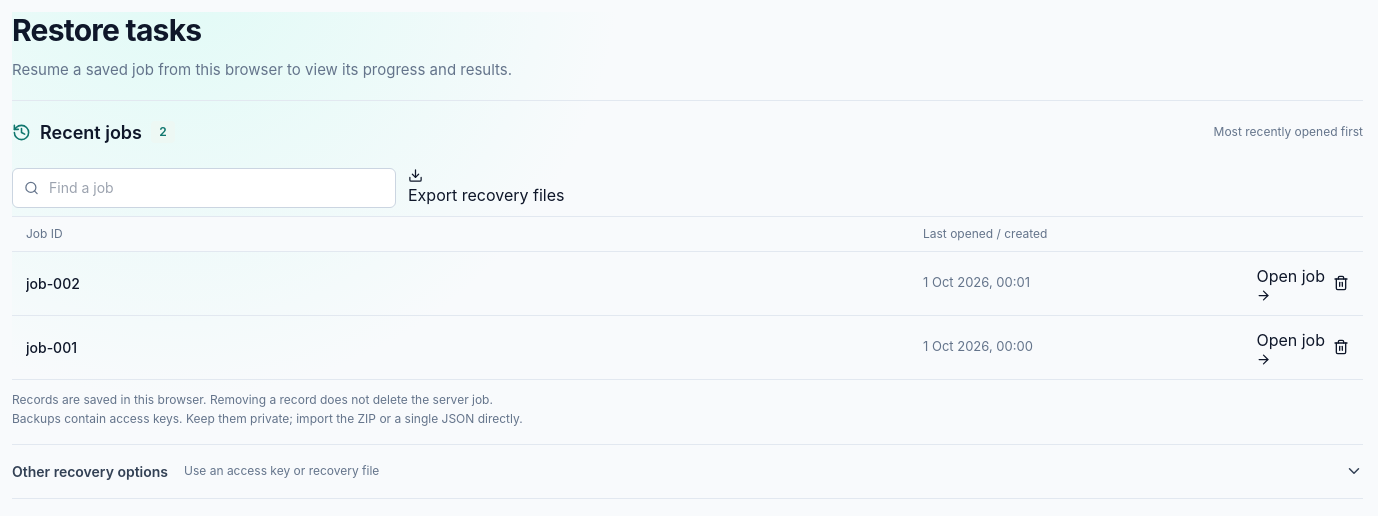
saved task recovery › undo restores the exact credential and work entry while preserving other work
Click the button named "Remove record: job-001" at (1341, 347), box [1333,327,1349,367]
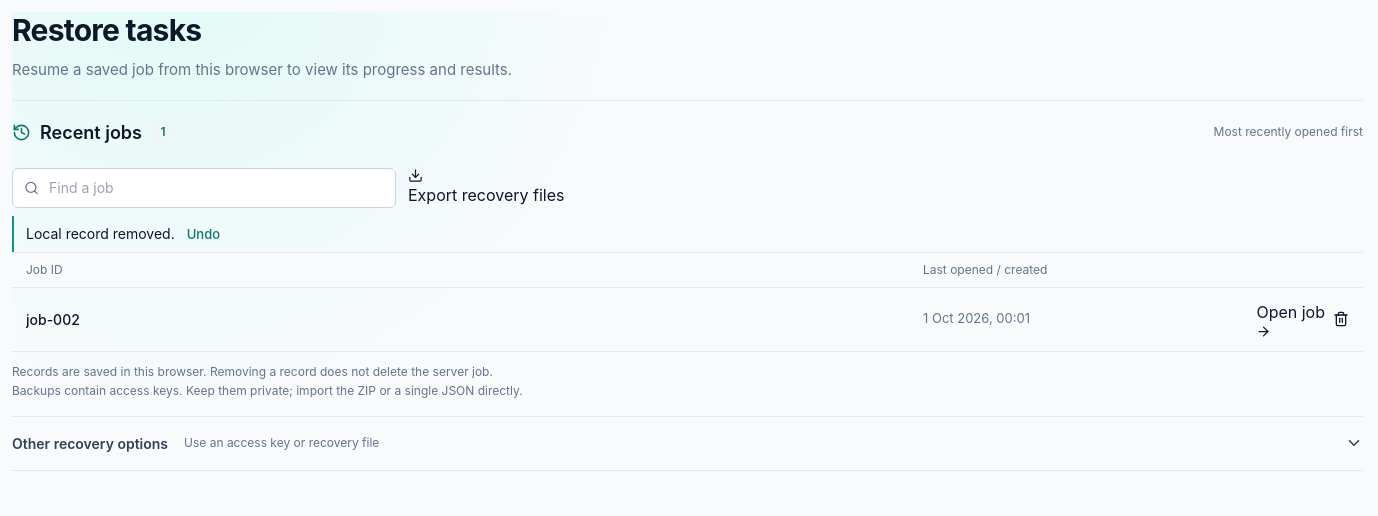
Click the button "Undo" at (203, 234), box [187,224,220,244]
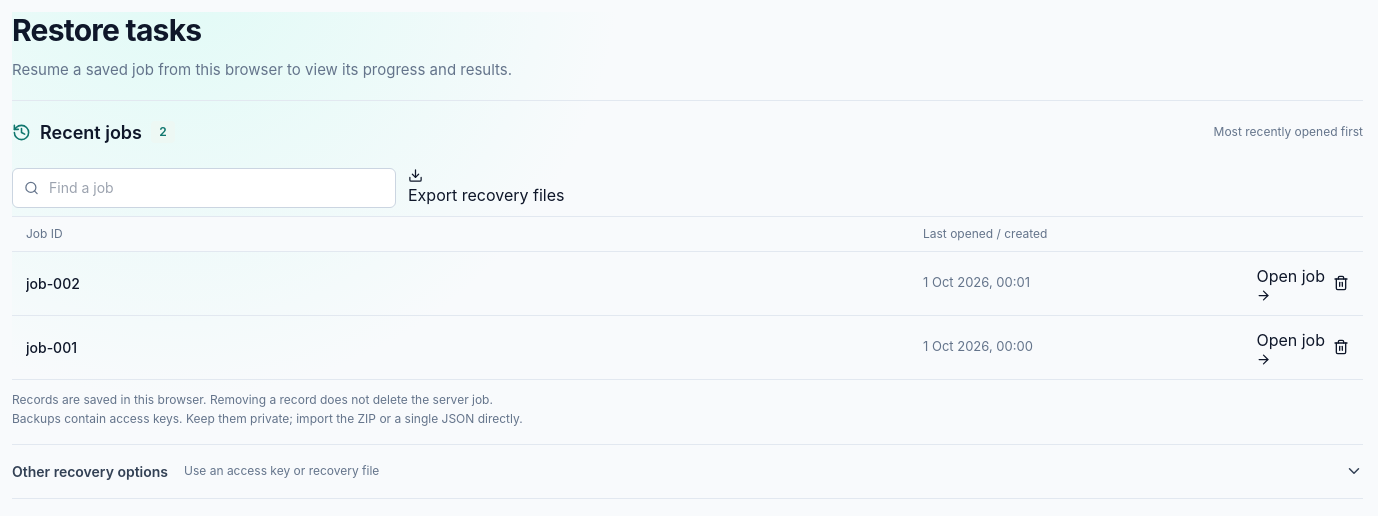
Expected: the text "Local record removed." is gone
